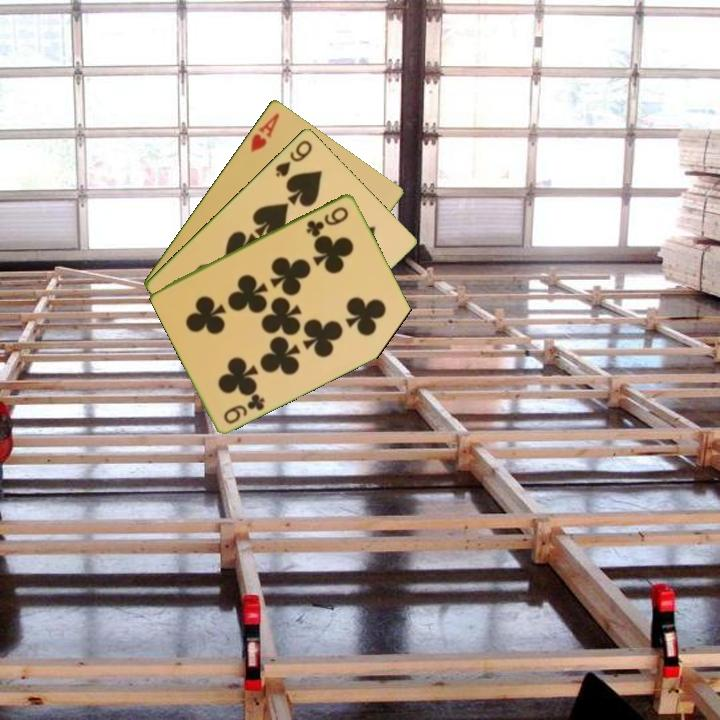9c: (220, 390, 268, 427), (303, 203, 352, 238)
9s: (272, 136, 315, 179)
Ah: (247, 109, 282, 155)
